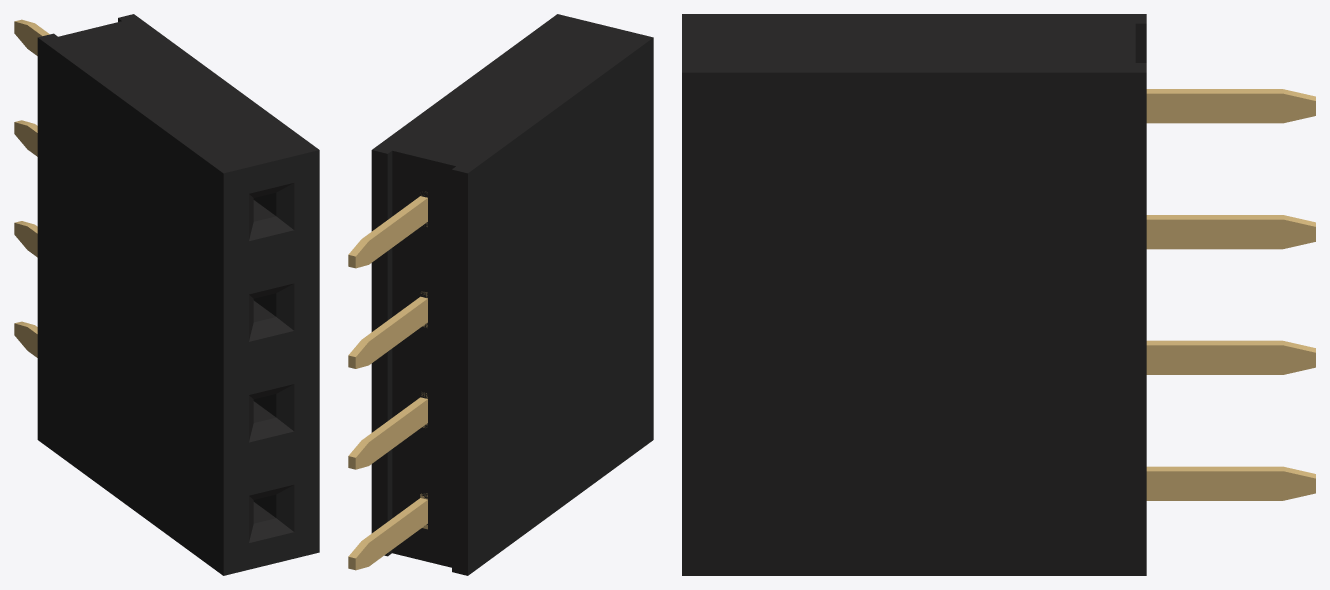
Rendered from socket-1x04.glb.
The picture shows the model from 3 angles, left to right: view 1: azimuth 30°, elevation 25°; view 2: azimuth 150°, elevation 25°; view 3: azimuth 270°, elevation 25°; orthographic projection. The views are drawn at different scales.
Visible parts, largest first — view 1: IC-BODY-EPOXY-04, PIN-02 (×4); view 2: IC-BODY-EPOXY-04, PIN-02 (×4); view 3: IC-BODY-EPOXY-04, PIN-02.
Part boxes in pixels (box(x1,y1,x2,y2)): IC-BODY-EPOXY-04: box(37, 14, 319, 575); PIN-02 (×4): box(14, 19, 49, 357); IC-BODY-EPOXY-04: box(371, 14, 653, 575); PIN-02 (×4): box(348, 191, 427, 570); IC-BODY-EPOXY-04: box(682, 14, 1146, 575); PIN-02: box(1146, 89, 1315, 500).
Size of the model in its own units: 2.54 by 10.16 by 11.6.
